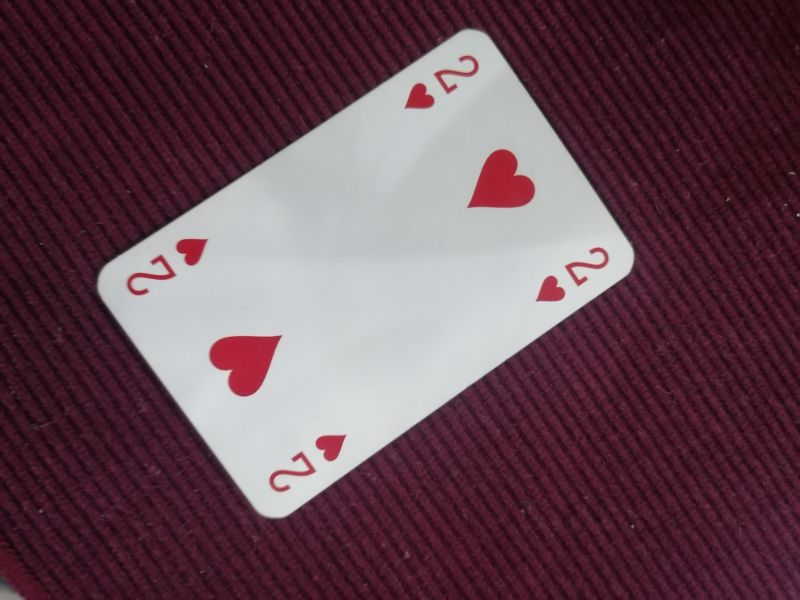2h: (122, 229, 214, 303), (267, 427, 351, 495), (532, 242, 614, 305), (402, 50, 482, 113)
